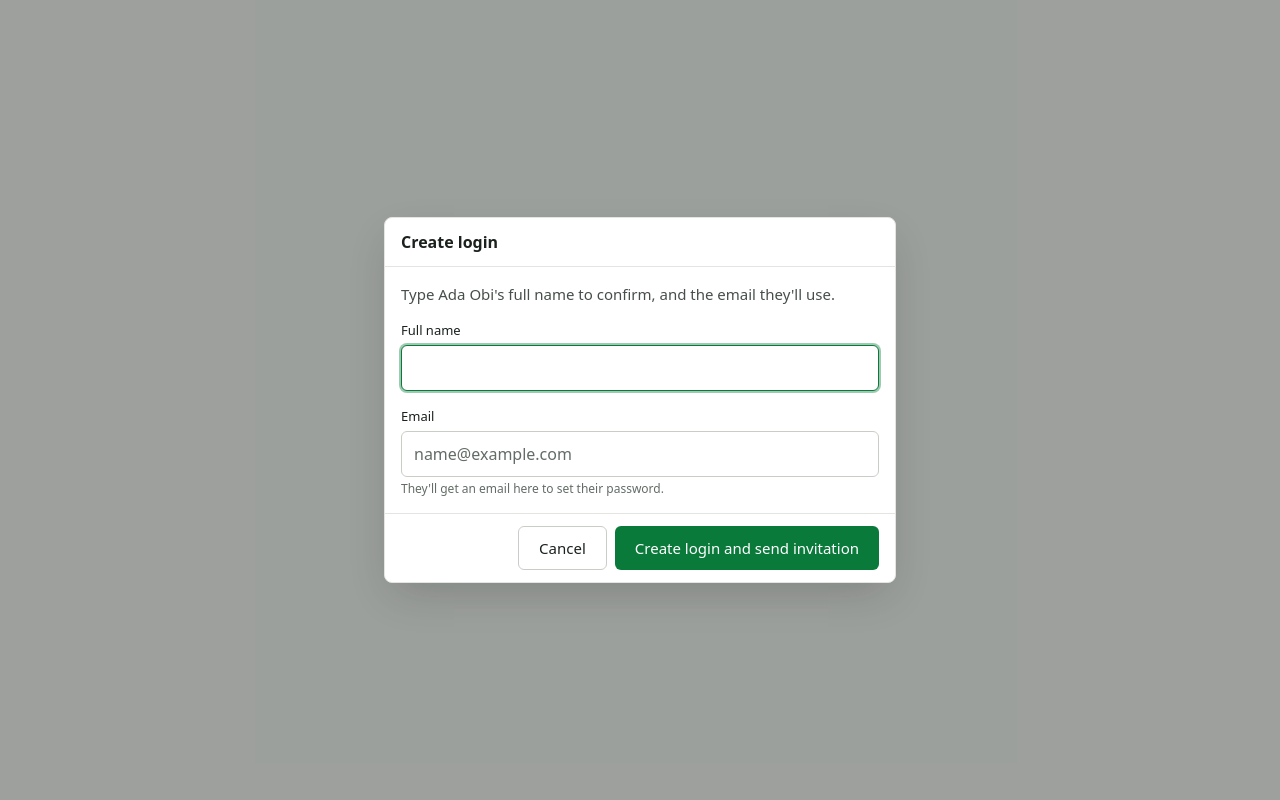
Test case: CreateLoginDialog › does nothing until the typed name matches their staff record
In the field labelled "Full name": (640, 368) [401,345,879,391], type "Ada"
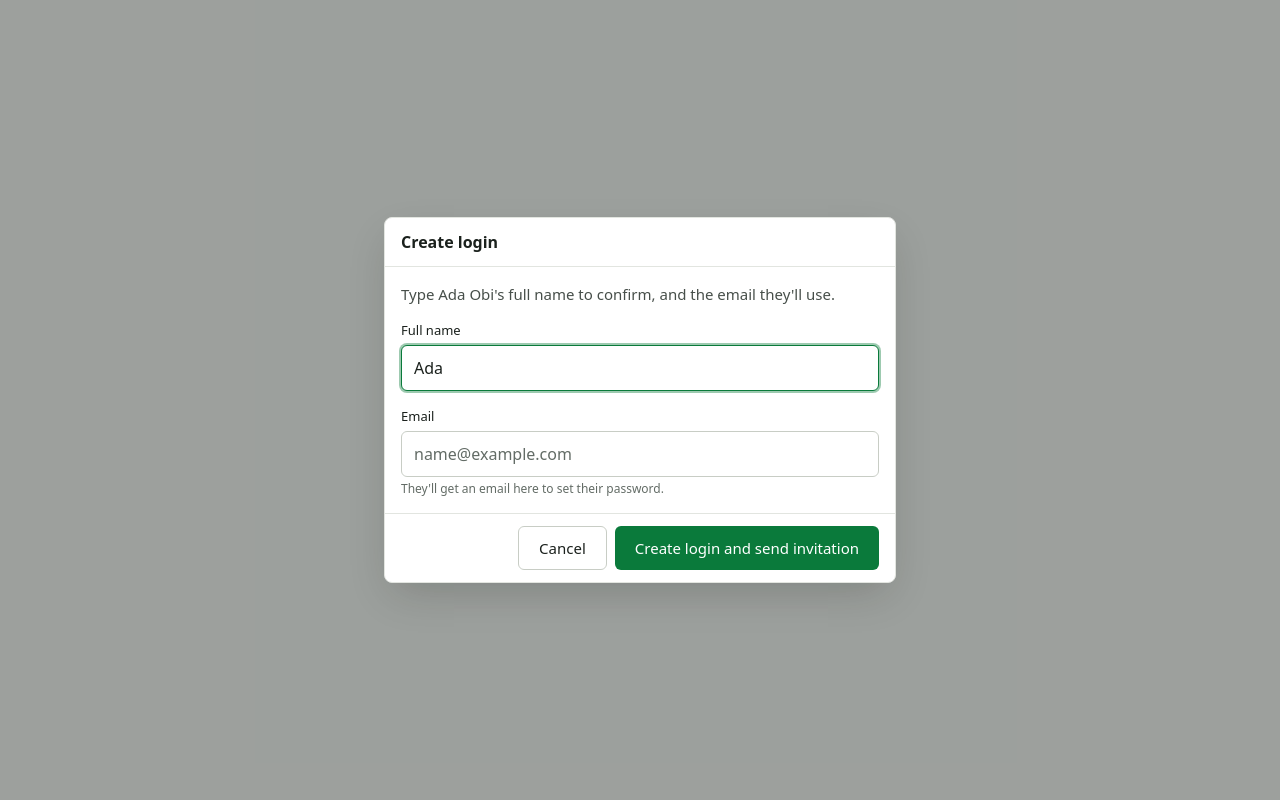
In the field labelled "Email": (640, 454) [401,431,879,477], type "ada@example.com"
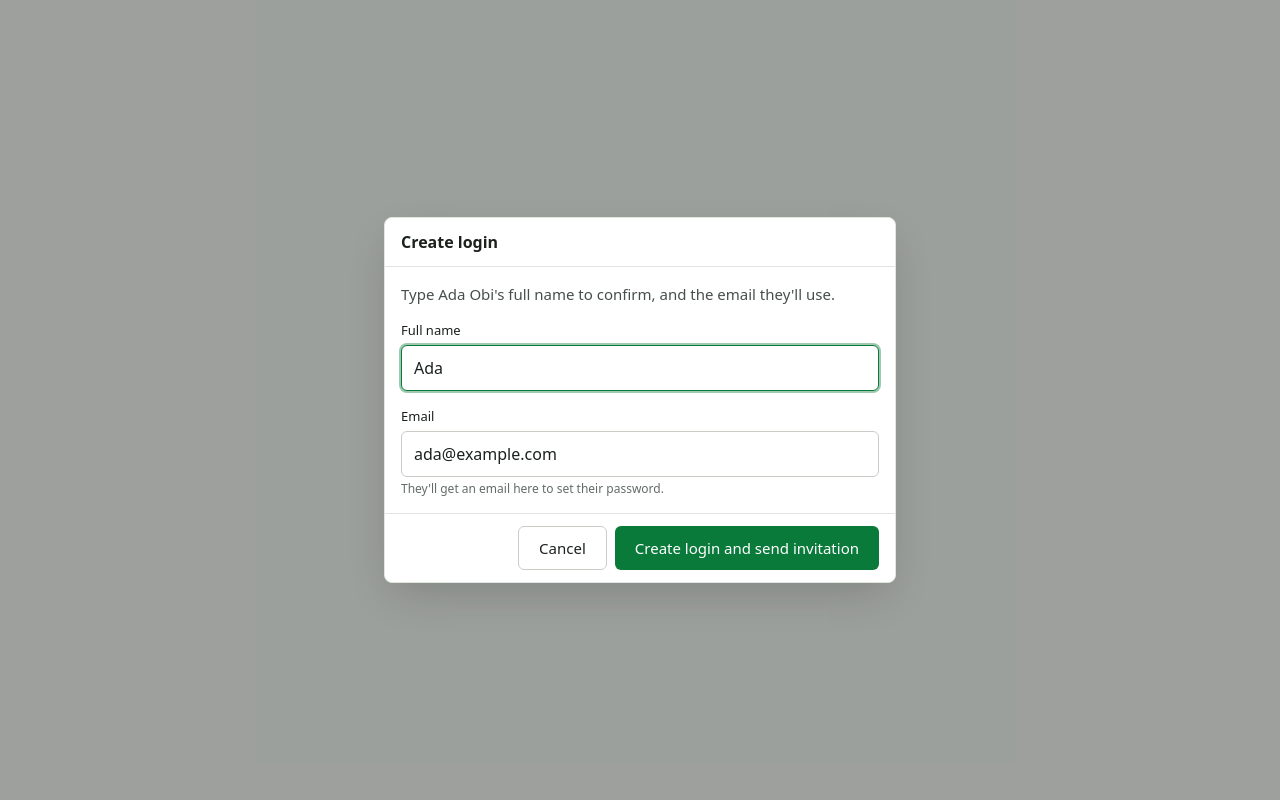
Click the button "Create login and send invitation": (747, 548) [615,526,879,570]
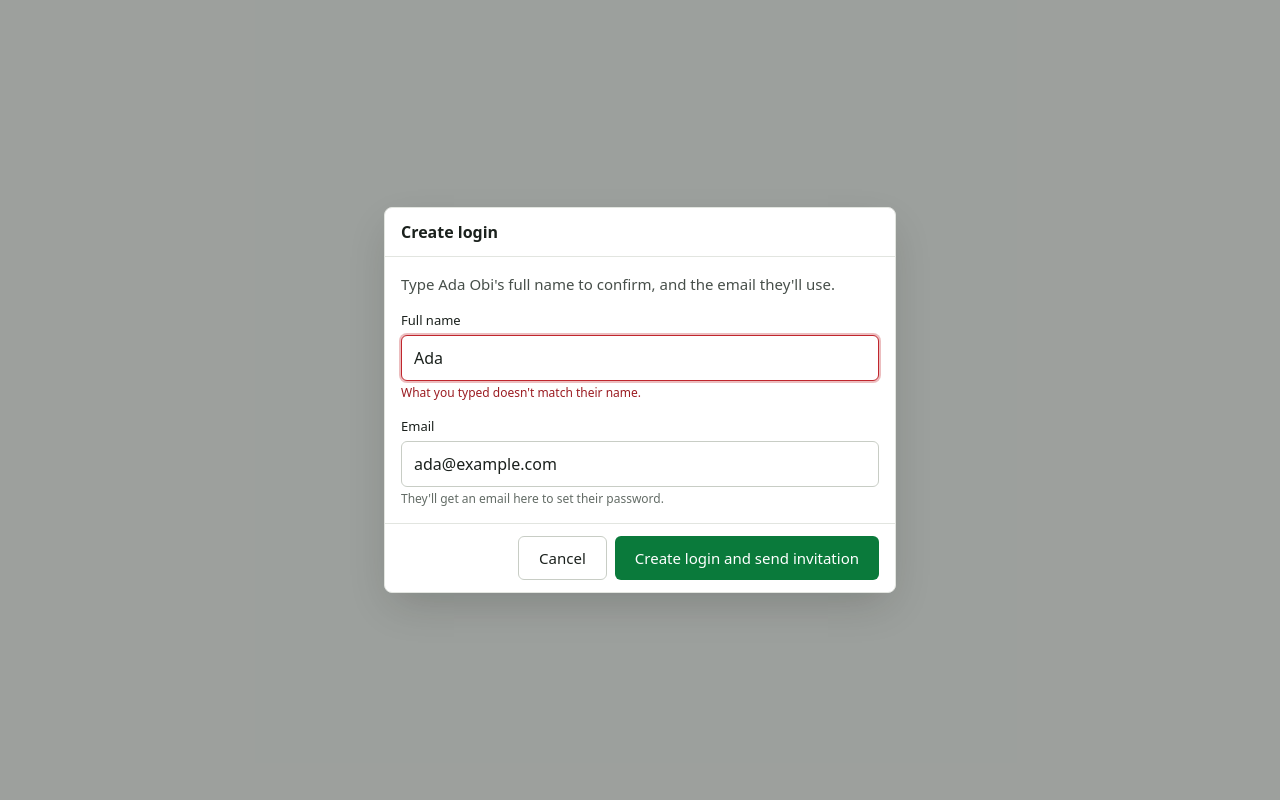
Expected: the text "What you typed doesn't match their name." is shown, [401,384,641,401]
